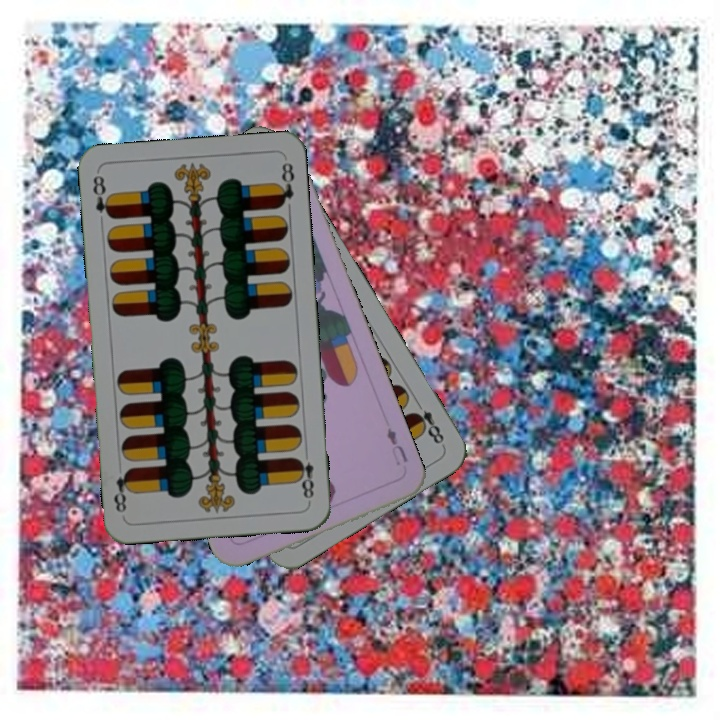E8: (407, 395, 447, 447), (88, 171, 116, 229), (292, 445, 316, 505)
EU: (382, 423, 411, 465)
